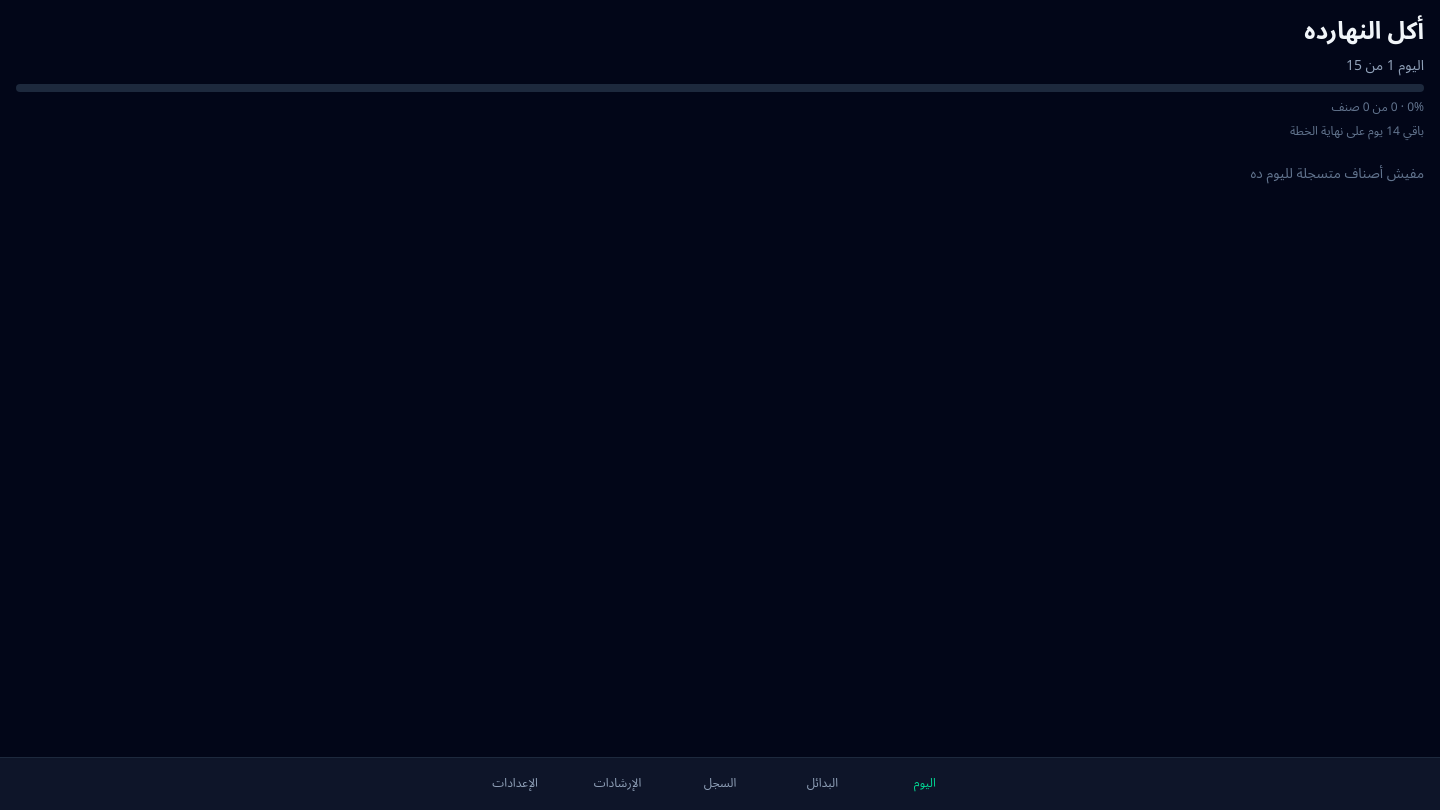
App › navigates between screens
Click the link "الإرشادات" at (618, 784), box top-left (594, 771), bottom-right (641, 796)
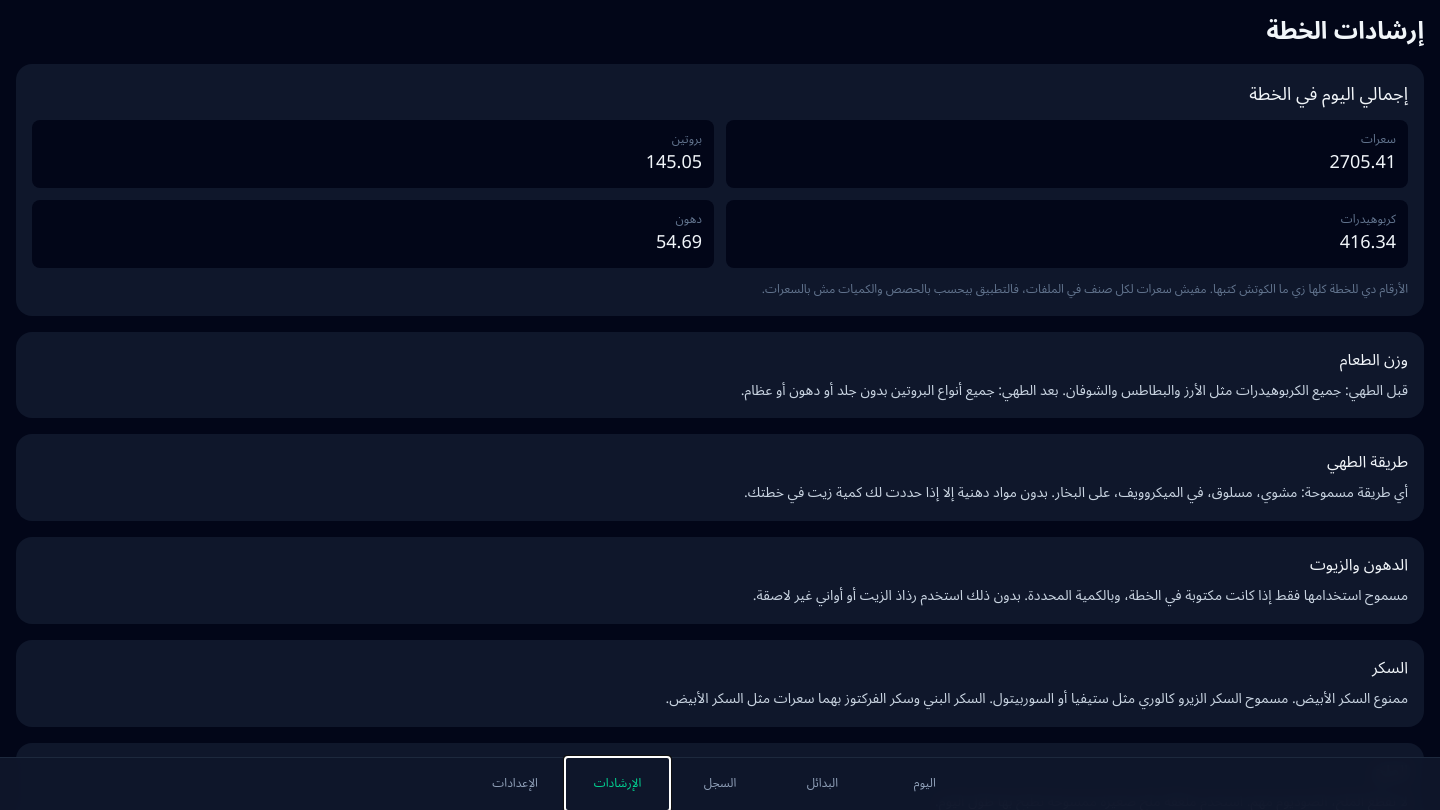
Expected: the heading "إرشادات الخطة" is shown, top-left (1266, 6), bottom-right (1424, 57)
